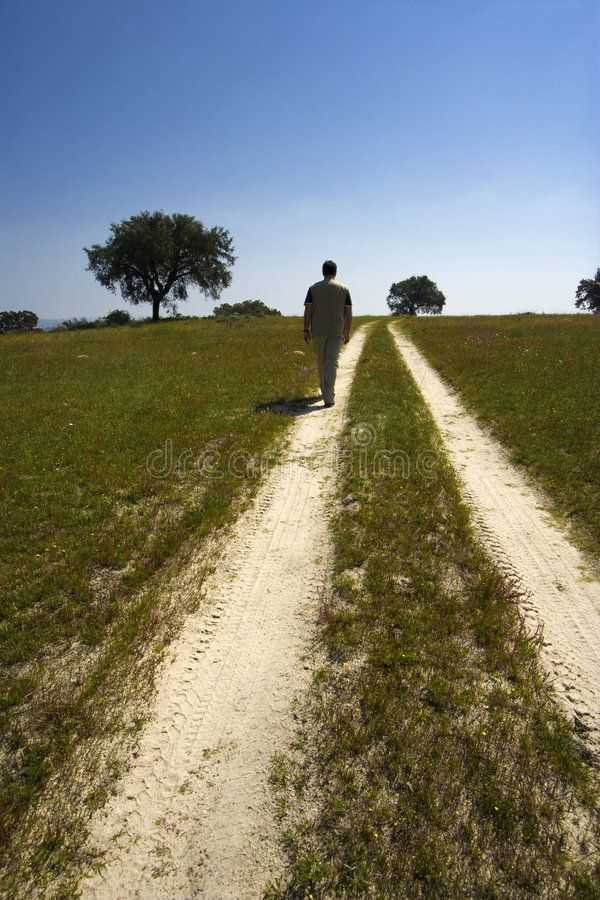Person: (294, 257, 364, 409)
Tree: (76, 208, 238, 321)
